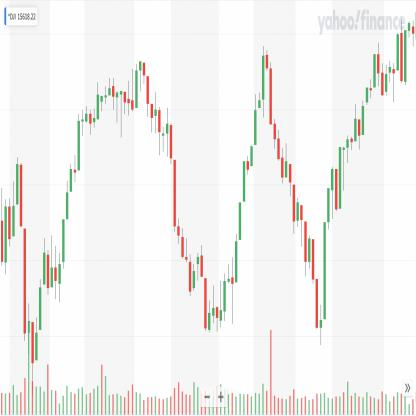Bearish: 3 Black Crows: (169, 120, 180, 250), (172, 158, 185, 262), (265, 46, 277, 152), (269, 60, 280, 163), (142, 60, 154, 136), (272, 117, 284, 187)
Bullish: 3 White Soldiers: (234, 159, 247, 286), (57, 177, 69, 306), (61, 160, 73, 272), (253, 43, 265, 146), (250, 92, 262, 168)
Bullish: Morning Star Doji: (314, 220, 326, 348)
